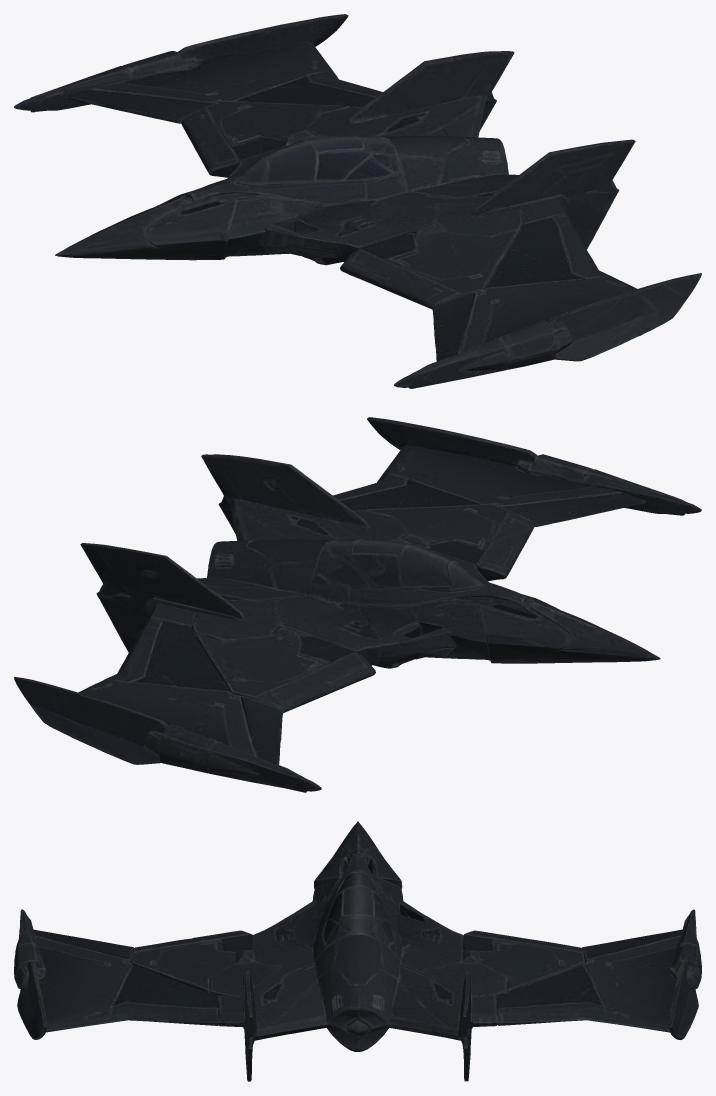
Rendered from m_phantom_jet.glb.
3 renders of one model, top to bottom at view 1: azimuth 30°, elevation 25°; view 2: azimuth 150°, elevation 25°; view 3: azimuth 270°, elevation 25°, orthographic. The views are drawn at different scales.
Bounding box in the file's own units: 1.46 × 0.3548 × 1.9.
Materials: 1 (1 with a texture image).
